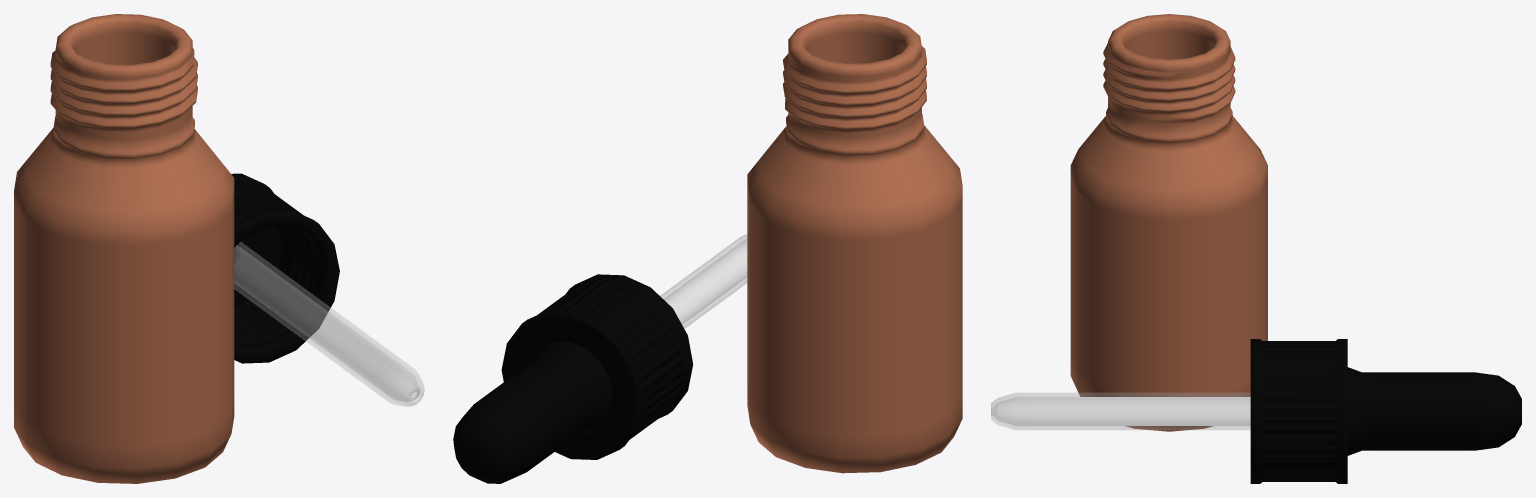
File: eyedropper.fbx
The picture shows the model from 3 angles, left to right: view 1: azimuth 30°, elevation 25°; view 2: azimuth 150°, elevation 25°; view 3: azimuth 270°, elevation 25°; orthographic projection. The views are drawn at different scales.
Visible parts, largest first — view 1: bottle, cap1, dropper, cap2; view 2: bottle, cap1, cap2, dropper; view 3: bottle, cap1, cap2, dropper.
Boxes of the visible parts, x1=… form: bottle: x1=14, y1=14, x2=234, y2=483; cap1: x1=231, y1=173, x2=339, y2=363; dropper: x1=234, y1=242, x2=424, y2=406; cap2: x1=234, y1=229, x2=265, y2=293; bottle: x1=747, y1=14, x2=962, y2=473; cap1: x1=501, y1=274, x2=693, y2=459; cap2: x1=453, y1=341, x2=612, y2=483; dropper: x1=660, y1=234, x2=747, y2=328; bottle: x1=1070, y1=14, x2=1267, y2=431; cap1: x1=1250, y1=339, x2=1347, y2=483; cap2: x1=1347, y1=367, x2=1521, y2=455; dropper: x1=991, y1=393, x2=1250, y2=429.
Bounding box in the file's own units: 6.54 × 7.02 × 9.47.
